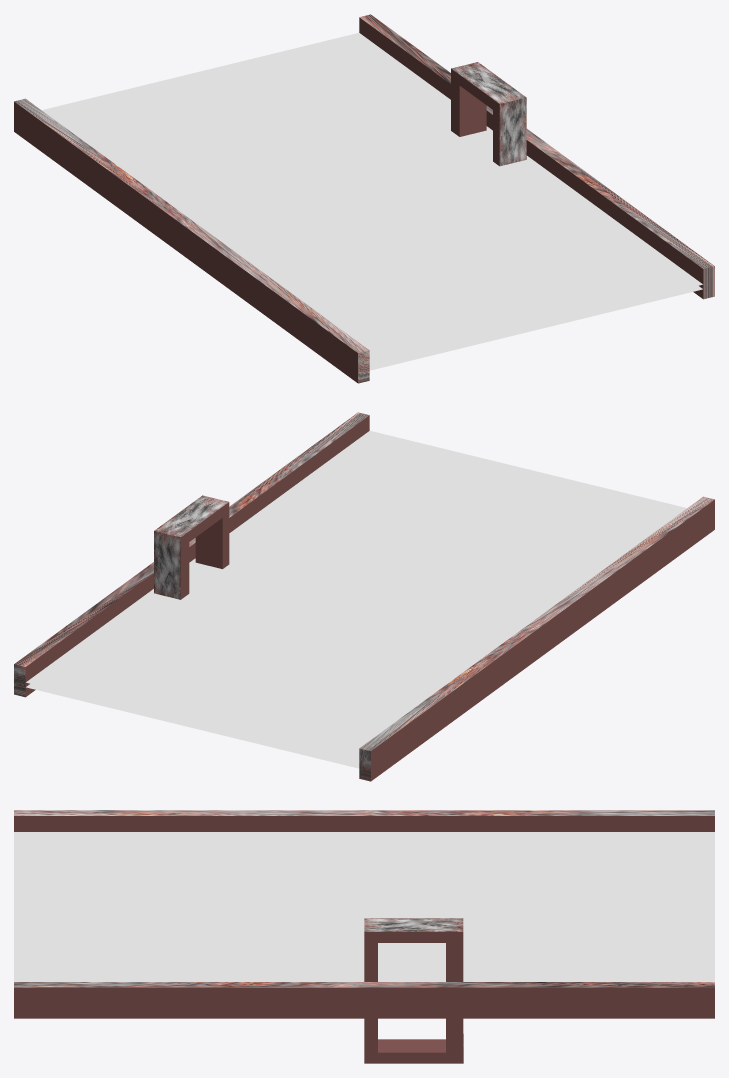
File: doorglass1x1_wtf.obj
3 views of the same model, one above another, from view 1: azimuth 30°, elevation 25°; view 2: azimuth 150°, elevation 25°; view 3: azimuth 270°, elevation 25° (orthographic).
Parts seen in each view (by area): view 1: group1, group2; view 2: group1, group2; view 3: group1, group2.
Part boxes in pixels (x1=…): group1: x1=42, y1=33, x2=702, y2=370; group2: x1=14, y1=14, x2=714, y2=383; group1: x1=26, y1=431, x2=686, y2=768; group2: x1=14, y1=412, x2=714, y2=781; group1: x1=14, y1=832, x2=714, y2=981; group2: x1=14, y1=810, x2=714, y2=1063.
Size of the model in its own units: 395 by 137 by 660.
